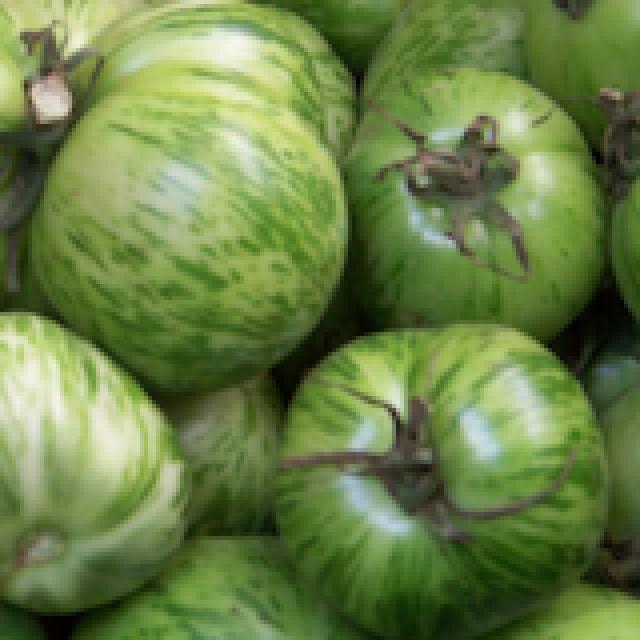yesil: (256, 313, 609, 609), (318, 65, 593, 328)
